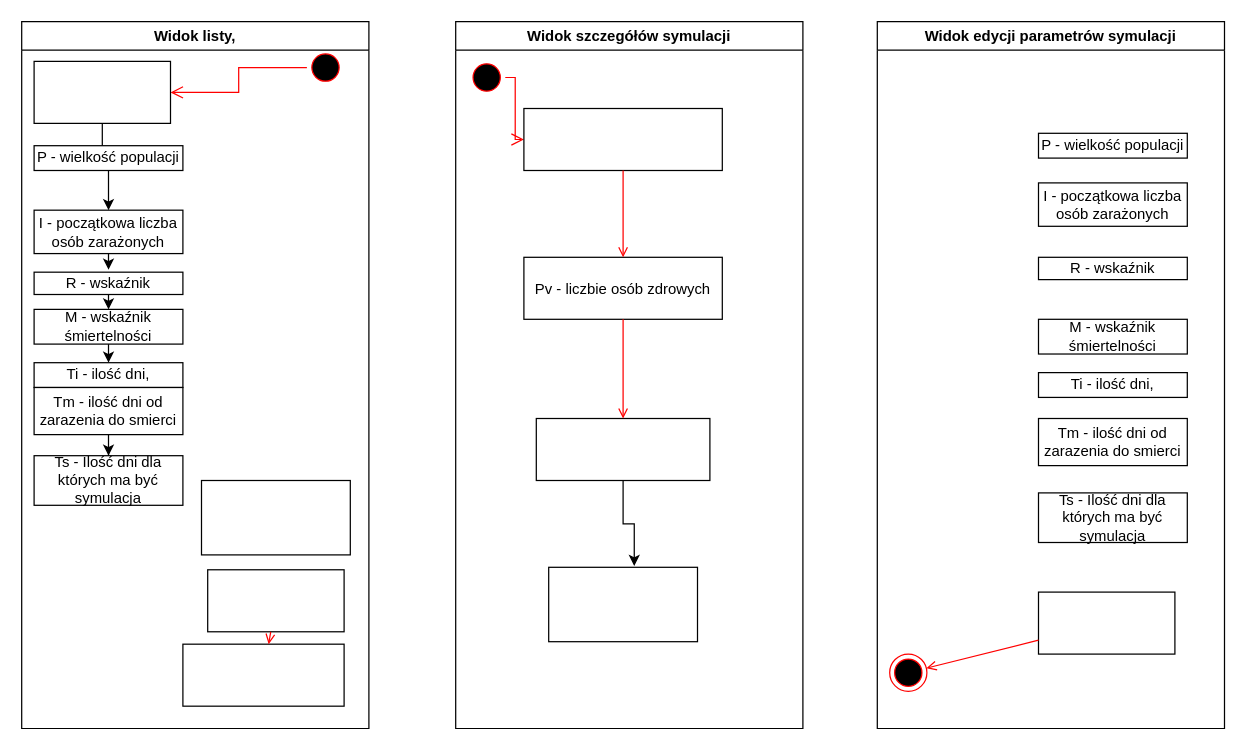
The diagram is 1246 pixels wide and 750 high, and some of its shapes have lost their labels. The shapes that lost their labels are listed below. From the top down, each one's centre as x and y in pixels, then its label:
At (101,91): "Object simulations".
At (622,138): "Pi - liczba osób zarażonych".
At (622,448): "Pm - liczba osób zmarłych".
At (275,517): "new".
At (275,600): "delete".
At (622,604): "Pr - liczbie osób, które wyzdrowiały i nabyły odporność".
At (1106,622): "Submit".
At (263,674): "switch to widok edycji..".
